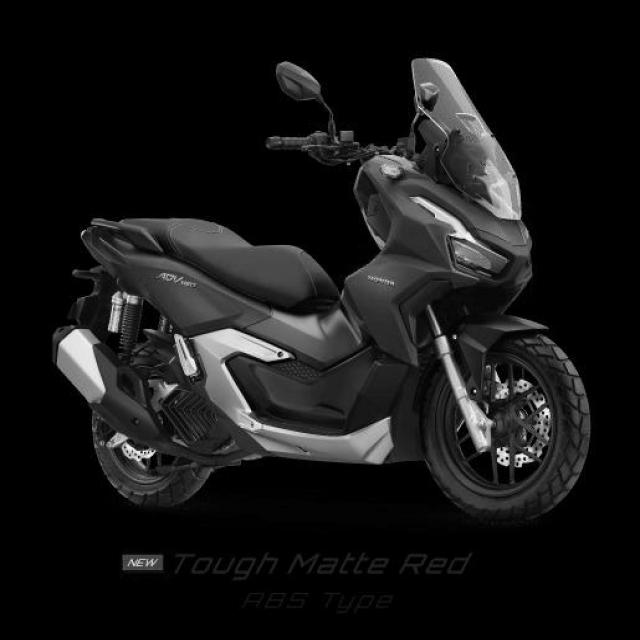Motorcycle: (54, 59, 590, 522)
